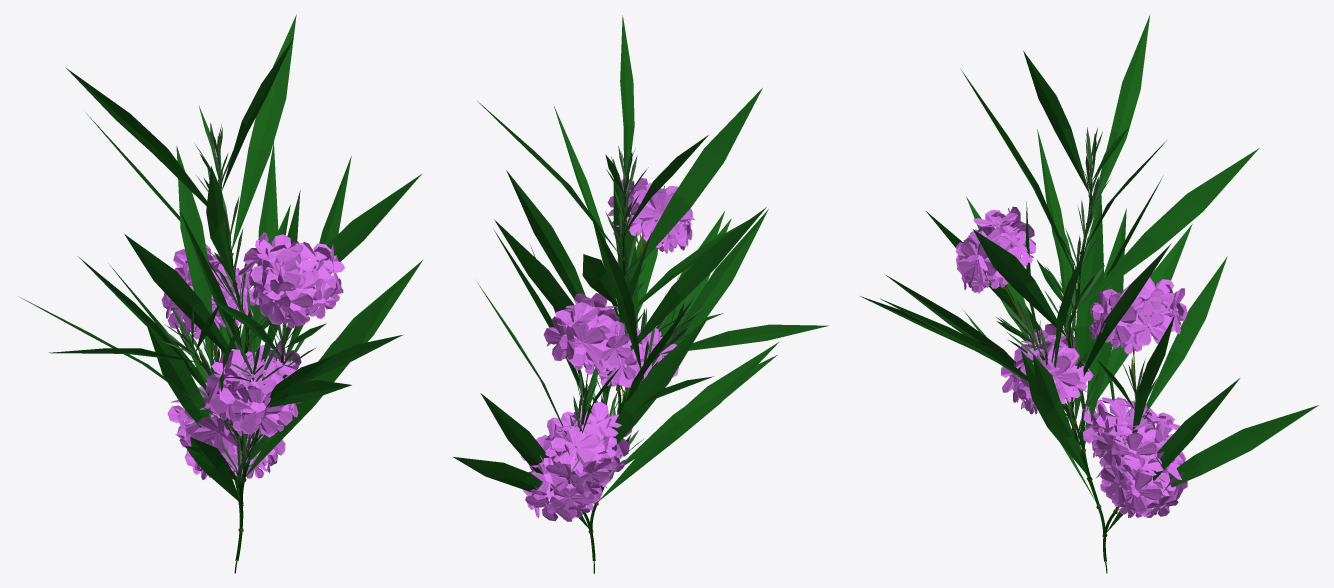
File: plants3.obj
The picture shows the model from 3 angles, left to right: view 1: azimuth 30°, elevation 25°; view 2: azimuth 150°, elevation 25°; view 3: azimuth 270°, elevation 25°; orthographic projection. The views are drawn at different scales.
Visible parts, largest first — view 1: 1phlox; view 2: 1phlox; view 3: 1phlox.
Boxes of the visible parts, <box> form: 1phlox: <box>20,14,423,573</box>; 1phlox: <box>453,15,828,573</box>; 1phlox: <box>860,14,1318,573</box>.
Size of the model in its own units: 620 by 905 by 714.
